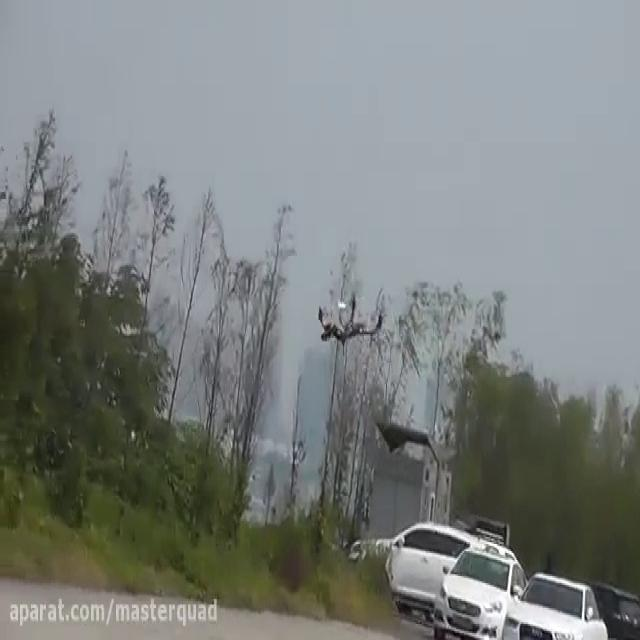drone: (313, 284, 385, 350)
